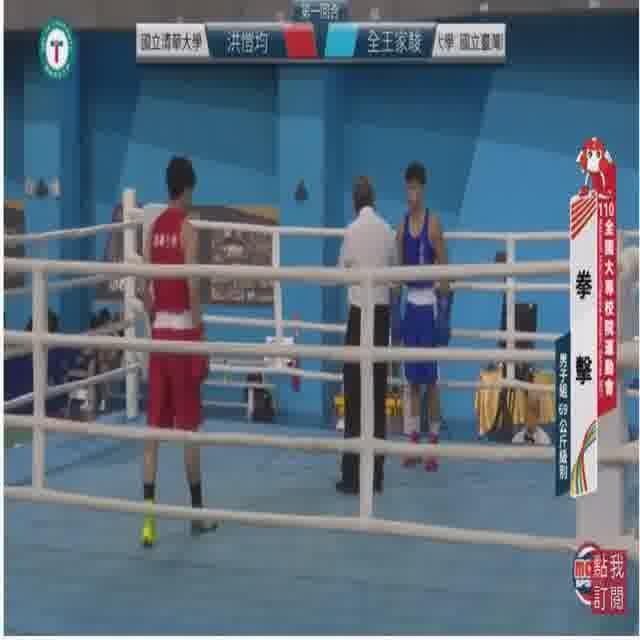blue-player: (391, 162, 450, 476)
red-player: (133, 155, 220, 554)
referee: (330, 176, 402, 498)
